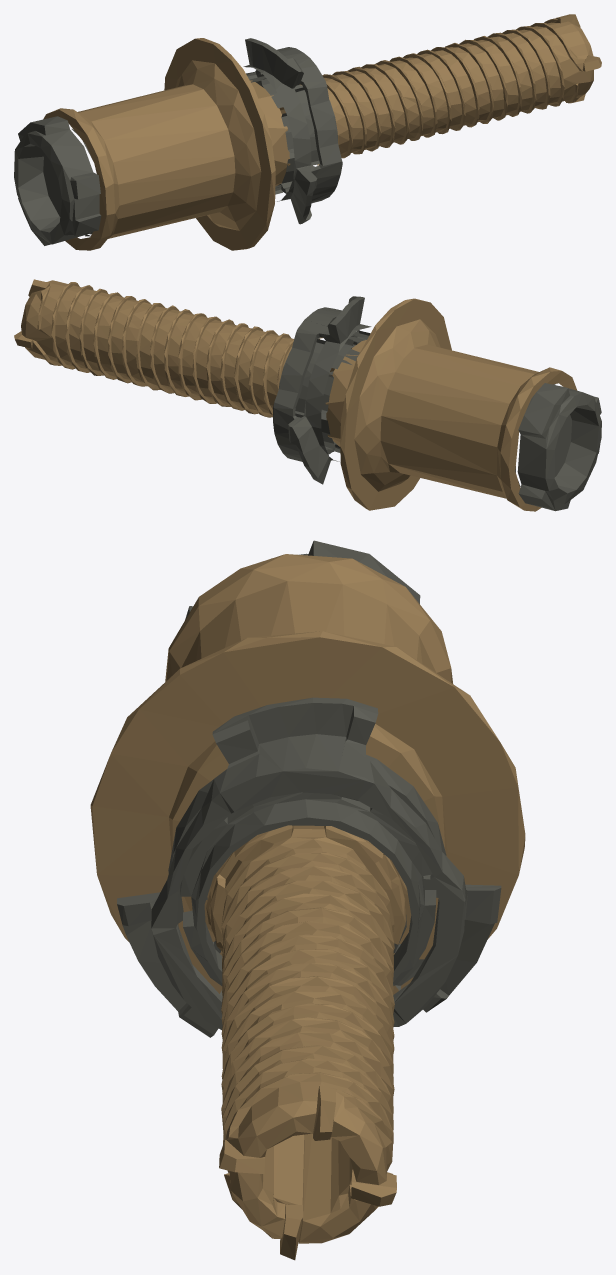
File: CoringBitInTurretAtZeroFeed.gltf
The picture shows the model from 3 angles, top to bottom: view 1: azimuth 30°, elevation 25°; view 2: azimuth 150°, elevation 25°; view 3: azimuth 270°, elevation 25°; orthographic projection. The views are drawn at different scales.
Visible parts, largest first — view 1: Mesh_0; view 2: Mesh_0; view 3: Mesh_0.
Part boxes in pixels (x1=…): Mesh_0: x1=14, y1=14, x2=601, y2=250; Mesh_0: x1=14, y1=279, x2=601, y2=511; Mesh_0: x1=90, y1=540, x2=525, y2=1260.
Bounding box in the file's own units: 0.1852 × 0.064 × 0.0641.
1 material, 1 textured.
